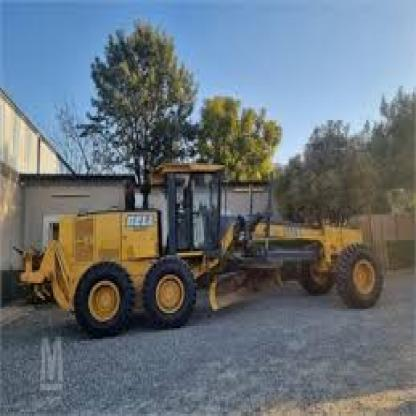bull_dozer/loader/grader: (13, 146, 405, 352)
